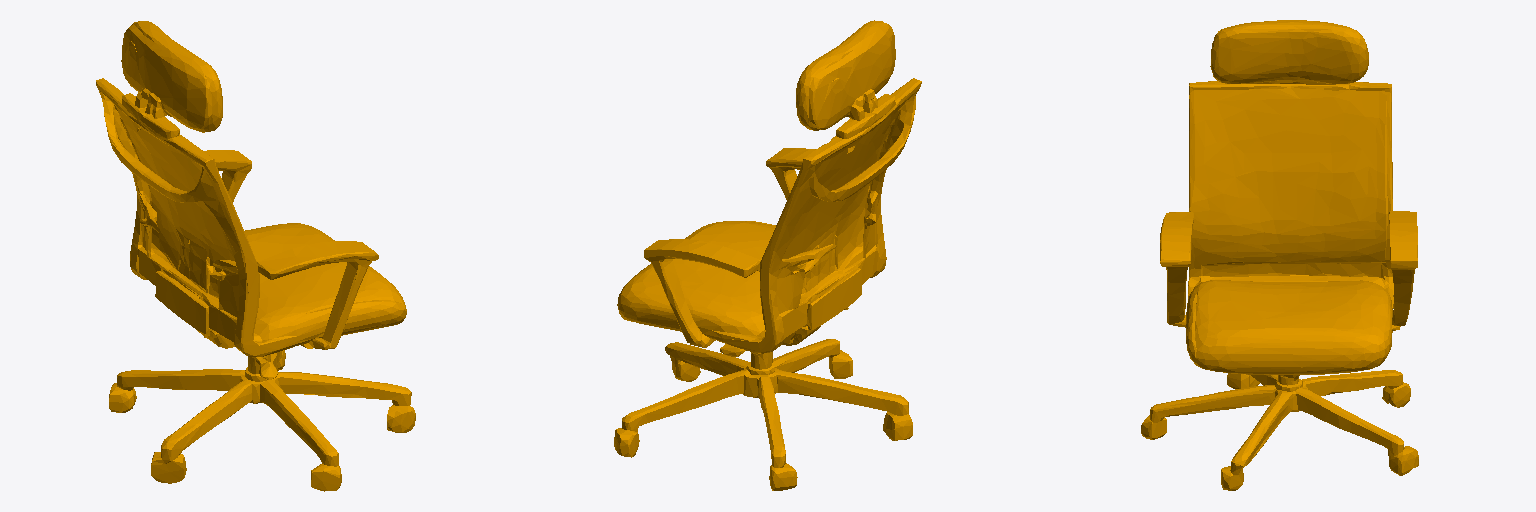
The robot description file, URDF, robot "office_chair_17":
<?xml version="1.0" ?>
<robot name="office_chair_17">
   <link name="office_chair_17">
      <visual>
         <origin xyz="0 0 0" rpy="1.5708 0.0 0.0"/>
         <geometry>
            <mesh filename="mesh/office_chair_17.obj" scale="1.0 1.0 1.0"/>
         </geometry>
      </visual>
      <collision>
         <origin xyz="0 0 0" rpy="1.5708 0.0 0.0"/>
         <geometry>
            <mesh filename="mesh/office_chair_17_collision.obj" scale="1.0 1.0 1.0"/>
         </geometry>
         <gazebo>
            <mu1>0.80</mu1>
            <mu2>0.60</mu2>
         </gazebo>
      </collision>
      <inertial>
         <mass value="15.0000"/>
         <origin xyz="0 0 0"/>
         <inertia ixx="1.0" ixy="0.0" ixz="0.0" iyy="1.0" iyz="0.0" izz="1.0"/>
      </inertial>
      <extra_info>
         <scale>1.300000</scale>
         <version>v0.1.5</version>
         <category>office_chair</category>
         <description>ergonomic office chair with headrest, armrests, and wheeled base</description>
         <min_height>1.2</min_height>
         <max_height>1.4</max_height>
         <real_height>1.3</real_height>
         <min_mass>12.0</min_mass>
         <max_mass>18.0</max_mass>
         <generate_time>20251021114503</generate_time>
         <gs_model>mesh/office_chair_17_gs.ply</gs_model>
      </extra_info>
   </link>
   <custom_data>
      <quality>
         <MeshGeoChecker>YES</MeshGeoChecker>
         <ImageSegChecker>YES</ImageSegChecker>
         <ImageAestheticChecker>4.815963506698608</ImageAestheticChecker>
         <overall>YES</overall>
      </quality>
   </custom_data>
</robot>

--- Render facts (derived) ---
3 views of the same robot in one strip: view 1: azimuth 30°, elevation 25°; view 2: azimuth 150°, elevation 25°; view 3: azimuth 270°, elevation 25° (orthographic).
Model office_chair_17 with 1 links and 0 joints (none), rooted at office_chair_17, posed every joint at zero.
Visible links, largest first — view 1: office_chair_17; view 2: office_chair_17; view 3: office_chair_17.
Boxes of the visible links, <box> form: office_chair_17: <box>96,21,415,491</box>; office_chair_17: <box>614,20,921,490</box>; office_chair_17: <box>1141,20,1418,490</box>.
Size in the robot's own frame: 0.839 by 0.868 by 1.3 metres.
1 mesh visuals loaded from 1 distinct referenced files (1 OBJ).
